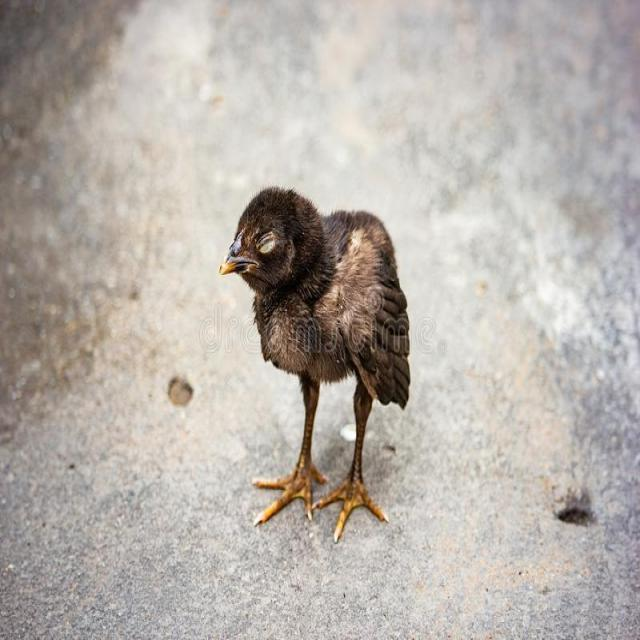poussin: (216, 181, 412, 540)
